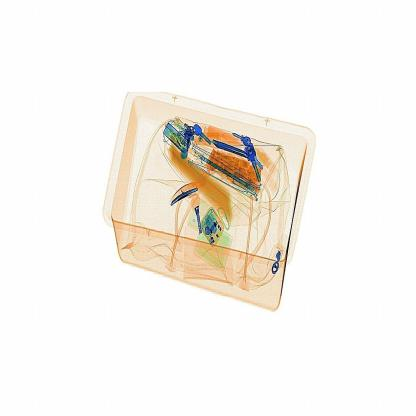pliers: (161, 180, 211, 214)
